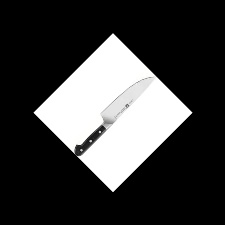k1: (99, 75, 156, 133)
